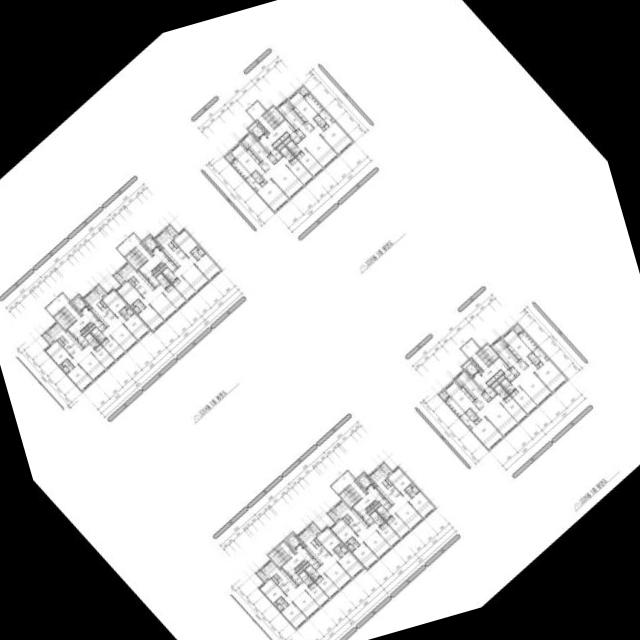background: (0, 0, 640, 640)
space_bedroom: (444, 380, 479, 412), (229, 143, 264, 174), (502, 328, 531, 365), (288, 90, 317, 127), (534, 358, 566, 391), (470, 416, 502, 449), (320, 120, 352, 153), (256, 178, 288, 211), (500, 394, 527, 422), (295, 147, 322, 175), (510, 385, 536, 413), (286, 156, 312, 184), (351, 541, 377, 568), (408, 490, 434, 517), (337, 550, 363, 577), (280, 601, 306, 628), (66, 363, 92, 390), (137, 303, 163, 330), (194, 252, 220, 279), (123, 312, 149, 339), (258, 577, 286, 602), (101, 288, 126, 316), (115, 280, 143, 305), (387, 466, 411, 494), (329, 518, 357, 542), (173, 228, 197, 256), (44, 340, 72, 364), (316, 526, 340, 554), (386, 512, 410, 537), (100, 334, 124, 359), (162, 283, 186, 308), (376, 521, 400, 546), (315, 572, 338, 597), (305, 581, 328, 606), (91, 343, 114, 368), (172, 275, 195, 299)
space_dressroom: (518, 330, 537, 350), (445, 396, 464, 416), (304, 92, 323, 112), (230, 158, 249, 178), (459, 412, 475, 427), (245, 174, 261, 189), (532, 346, 546, 363), (318, 108, 332, 125)
space_elevator: (461, 359, 479, 377), (247, 121, 265, 139), (356, 472, 373, 488), (285, 532, 301, 548), (142, 234, 158, 250), (71, 294, 87, 310)
space_elevator_hall: (460, 338, 508, 389), (246, 100, 293, 151), (330, 470, 382, 515), (45, 292, 97, 337), (116, 232, 168, 277), (279, 540, 311, 575)
space_front: (502, 368, 515, 381), (484, 384, 497, 397), (270, 147, 283, 159), (93, 318, 105, 331), (147, 274, 159, 287), (379, 496, 391, 509), (361, 512, 373, 524), (290, 572, 302, 584), (165, 259, 177, 271), (288, 131, 300, 143), (76, 334, 88, 346), (307, 556, 319, 568)
space_kitchen: (490, 336, 527, 373), (453, 370, 488, 409), (276, 99, 313, 135), (331, 499, 368, 535), (83, 287, 117, 326), (239, 132, 273, 171), (260, 559, 296, 595), (117, 261, 153, 297), (46, 321, 82, 357), (297, 525, 331, 563), (368, 466, 402, 504), (154, 228, 188, 266)
space_living_room: (475, 393, 517, 435), (261, 155, 303, 197), (296, 124, 337, 167), (510, 362, 551, 404), (172, 254, 208, 291), (386, 492, 422, 528), (315, 552, 351, 588), (354, 521, 390, 557), (283, 581, 319, 617), (101, 314, 137, 350), (69, 343, 105, 379), (140, 283, 176, 319)
space_other: (140, 241, 152, 255), (354, 479, 366, 492), (283, 539, 295, 552), (69, 301, 81, 314), (508, 365, 519, 376), (481, 390, 491, 401), (267, 152, 277, 163), (294, 128, 304, 138), (271, 138, 281, 147), (493, 369, 502, 378), (279, 131, 288, 140), (486, 376, 495, 384), (490, 379, 498, 387), (276, 141, 284, 149), (239, 141, 247, 149), (286, 99, 294, 107), (496, 374, 504, 381), (454, 379, 461, 387), (501, 337, 508, 345), (152, 269, 160, 276), (282, 136, 290, 143), (87, 323, 95, 330), (367, 507, 374, 514), (302, 561, 309, 568), (342, 516, 349, 523), (373, 501, 380, 508), (475, 363, 482, 370), (313, 537, 320, 544), (271, 576, 278, 583), (99, 300, 106, 307), (128, 278, 135, 285), (261, 126, 268, 133), (159, 263, 166, 270), (81, 329, 88, 336), (295, 567, 302, 574), (470, 357, 476, 364), (385, 478, 391, 485), (171, 240, 177, 247), (57, 338, 63, 345), (256, 119, 262, 126), (297, 562, 302, 566), (294, 565, 298, 570), (372, 499, 376, 504), (154, 265, 159, 269), (87, 321, 91, 326), (369, 503, 373, 507), (535, 363, 539, 367), (476, 416, 480, 420), (544, 355, 548, 359), (365, 506, 369, 510), (301, 559, 305, 563), (272, 601, 276, 605), (196, 244, 200, 248), (58, 363, 62, 367), (80, 328, 84, 332), (253, 187, 257, 191), (158, 262, 162, 266), (83, 325, 87, 329), (330, 117, 334, 121), (151, 268, 155, 272), (344, 541, 347, 545), (467, 425, 471, 428), (339, 541, 342, 545), (321, 126, 325, 129), (262, 179, 266, 182), (129, 304, 133, 307), (410, 482, 414, 485), (125, 304, 128, 307), (301, 542, 303, 545), (372, 483, 375, 485), (158, 245, 160, 247), (87, 305, 89, 307)
space_outdoor_room: (379, 462, 391, 474), (165, 224, 177, 236), (94, 284, 106, 296), (41, 331, 53, 343), (308, 522, 320, 534), (327, 509, 339, 521), (113, 271, 124, 284), (256, 569, 267, 581), (438, 389, 449, 400), (512, 323, 522, 334), (224, 152, 235, 162), (298, 85, 308, 96)
space_staircase: (125, 246, 147, 269), (339, 484, 361, 506), (475, 343, 497, 365), (53, 306, 75, 328), (261, 105, 283, 127), (268, 544, 290, 566)
space_toilet: (304, 564, 319, 579), (493, 383, 508, 398), (90, 326, 105, 341), (279, 145, 294, 160), (161, 266, 176, 281), (376, 504, 390, 519), (369, 510, 383, 525), (298, 570, 312, 585), (500, 377, 514, 392), (286, 139, 300, 154), (155, 272, 169, 287), (84, 332, 98, 347), (404, 484, 415, 497), (346, 536, 359, 547), (190, 246, 201, 259), (275, 596, 287, 607), (61, 358, 73, 369), (132, 298, 144, 309), (119, 306, 129, 319), (333, 544, 343, 556), (531, 355, 540, 364), (464, 407, 473, 416), (527, 351, 536, 360), (254, 174, 263, 183), (250, 169, 259, 178), (313, 113, 322, 122), (468, 412, 477, 420), (339, 545, 347, 553), (196, 247, 204, 255), (317, 118, 325, 126), (125, 307, 133, 315), (411, 485, 418, 493), (276, 602, 283, 610), (347, 543, 354, 550), (133, 305, 140, 312), (62, 365, 69, 372)
